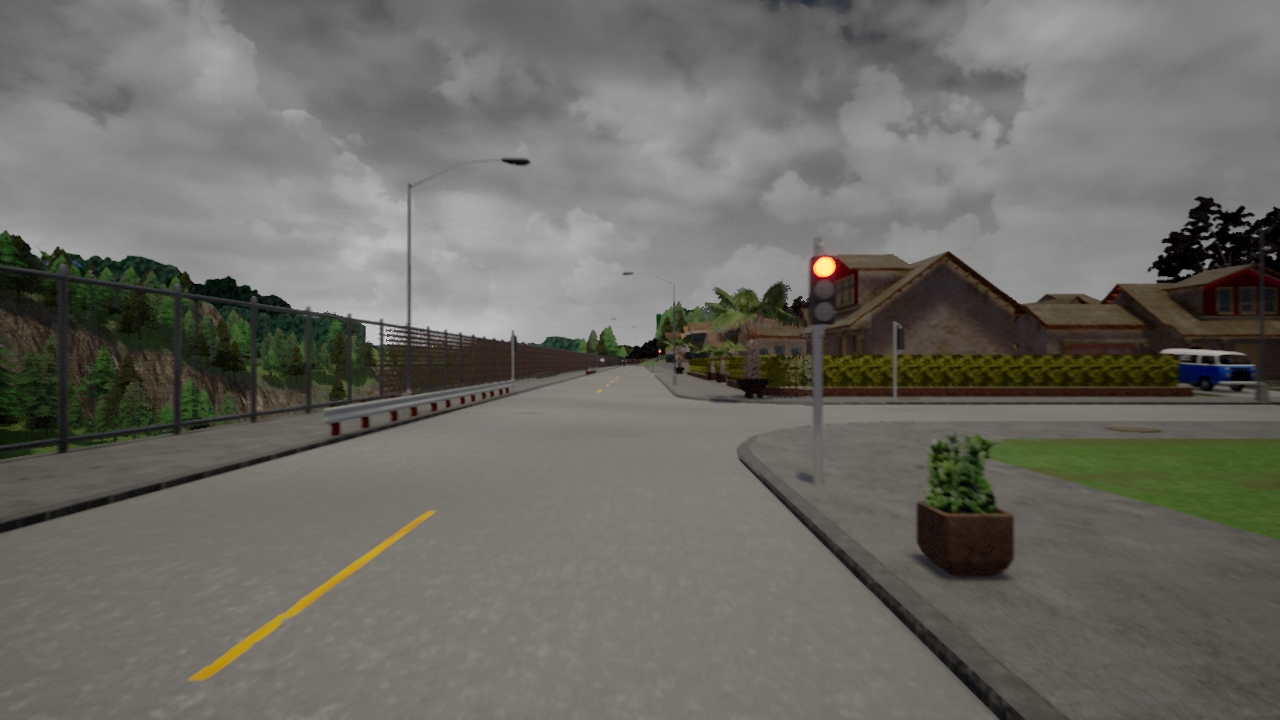red: (807, 256, 839, 325)
